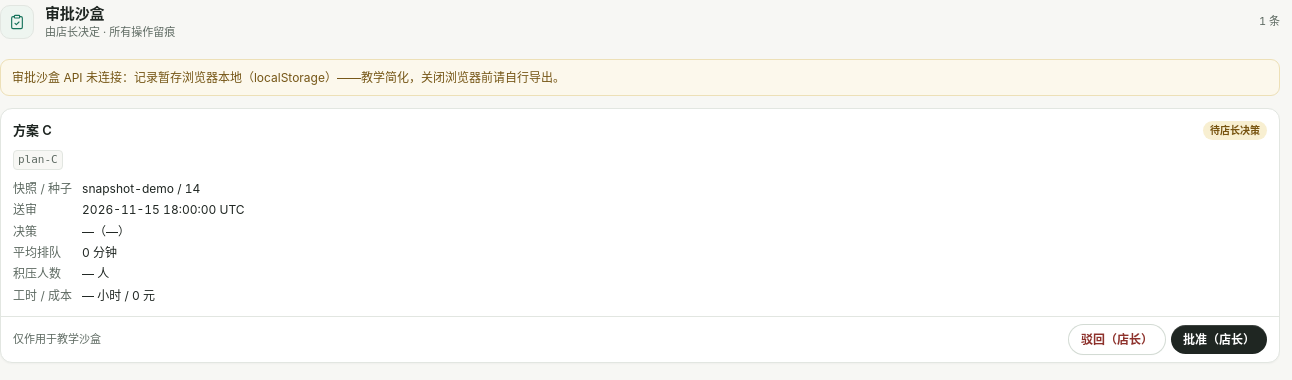
Scenario: 教学告警与人工审批 › 保留本地降级提示与人工批准，再由人单独发起回滚
Expected: the text "审批沙盒 API 未连接：记录暂存浏览器本地（localStorage）——教学简化，关闭浏览器前请自行导出。" is shown, [0,59,1280,96]
Expected: the text "待店长决策" is shown, [1203,121,1267,140]
Click the button "批准（店长）" at (1219, 340), box [1171,325,1267,354]
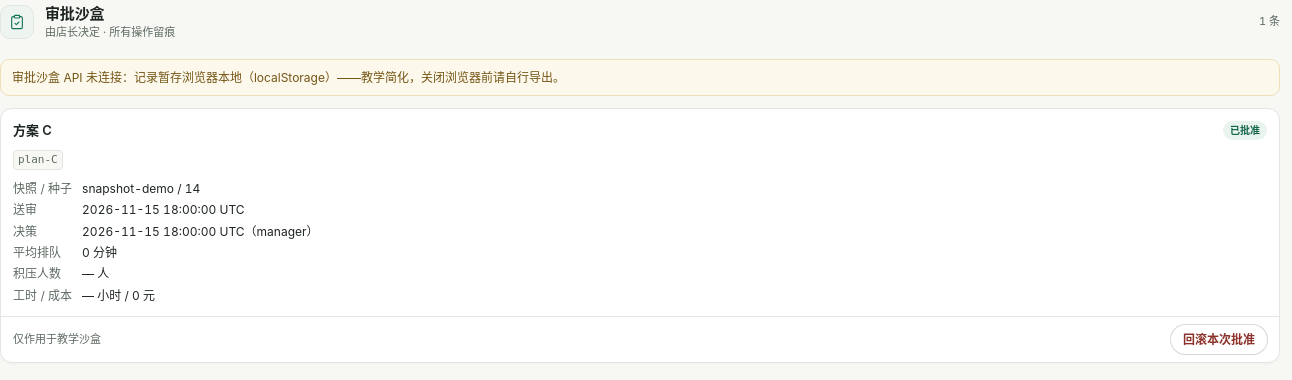
Result: the text "已批准" is shown at [1223,121,1267,140]
Click the button "回滚本次批准" at (1219, 340), box [1171,325,1267,354]
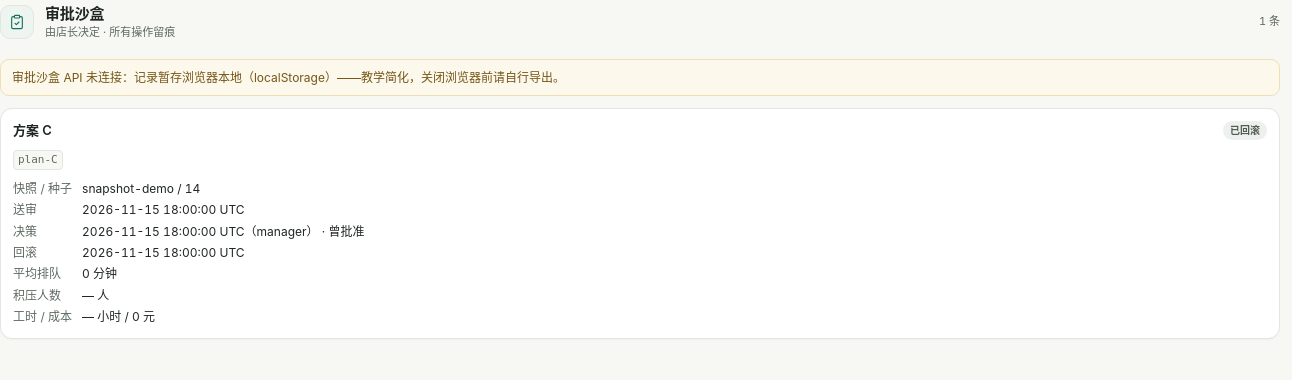
Result: the text "已回滚" is shown at [1223,121,1267,140]
Result: the button "回滚本次批准" is gone
